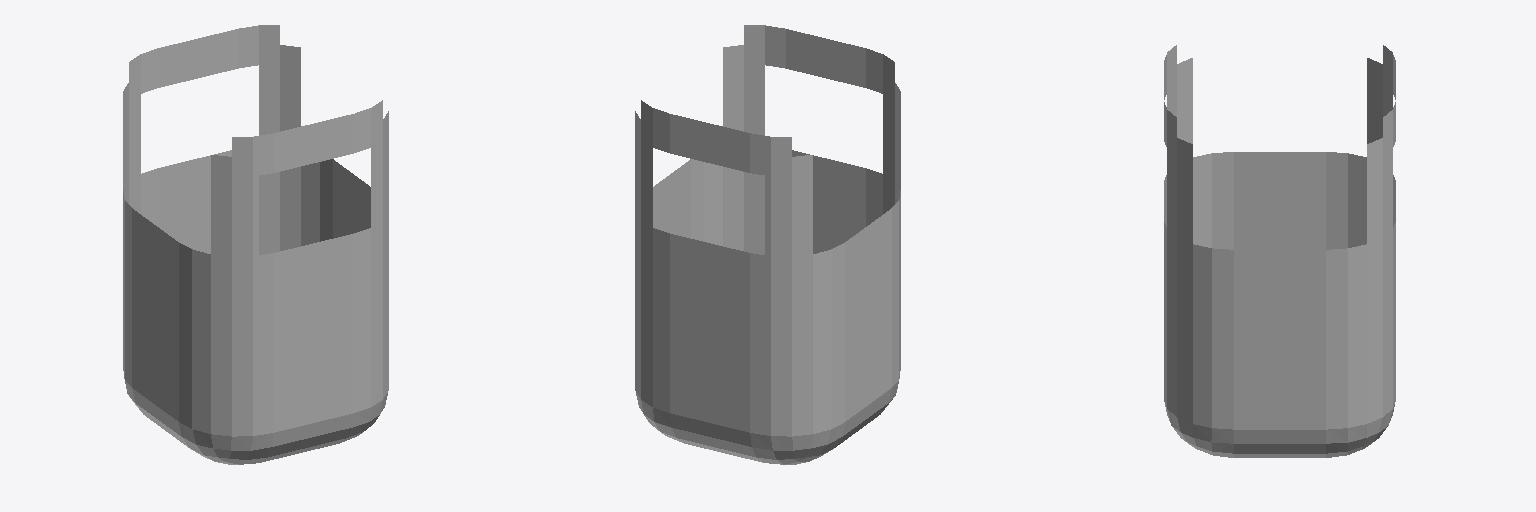
File: bag2_28.obj
The picture shows the model from 3 angles: view 1: azimuth 30°, elevation 25°; view 2: azimuth 150°, elevation 25°; view 3: azimuth 270°, elevation 25°; orthographic projection.
Parts seen in each view (by area): view 1: Cube-0-1.060_Cube.175; view 2: Cube-0-1.060_Cube.175; view 3: Cube-0-1.060_Cube.175.
Boxes of the visible parts, <box> form: Cube-0-1.060_Cube.175: <box>123,25,388,464</box>; Cube-0-1.060_Cube.175: <box>635,25,900,464</box>; Cube-0-1.060_Cube.175: <box>1164,45,1395,457</box>.
Bounding box in the file's own units: 2 × 3.33 × 2.